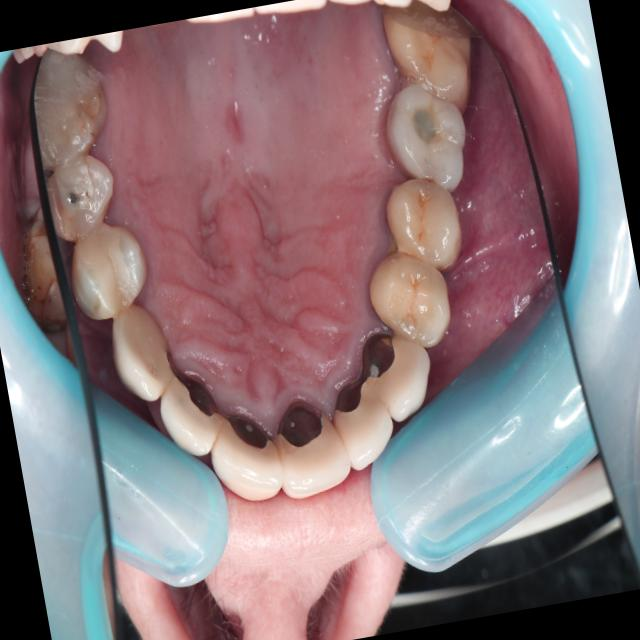tooth: (350, 228, 462, 366), (12, 36, 124, 173), (374, 65, 480, 206), (370, 0, 492, 119), (369, 146, 473, 283), (57, 208, 160, 330), (351, 304, 443, 433), (198, 394, 291, 520), (264, 387, 356, 506), (144, 354, 234, 471), (319, 367, 403, 483), (99, 298, 183, 409), (38, 149, 130, 246)
